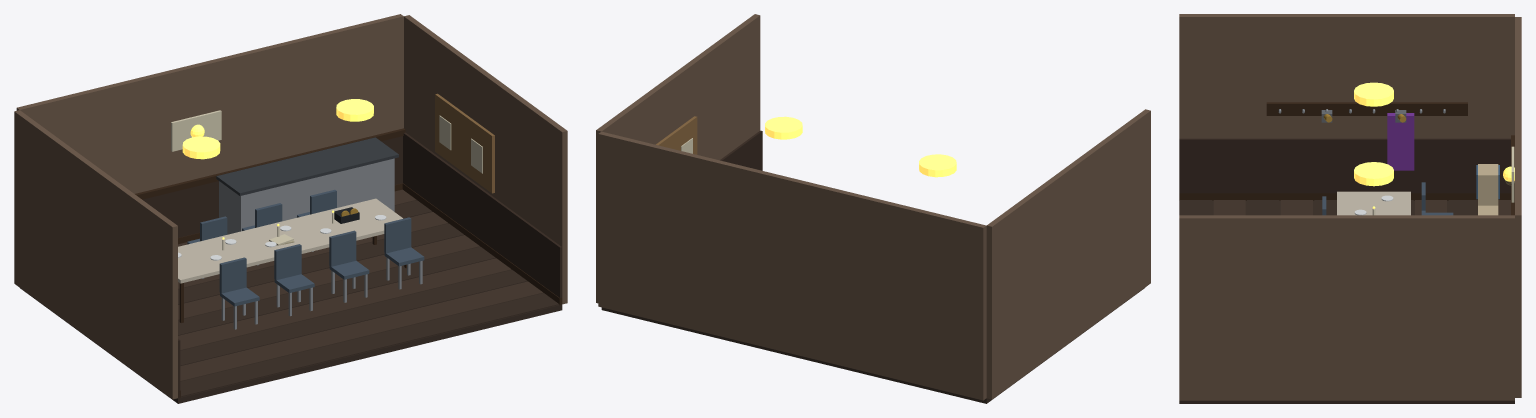
Rendered from mess.glb.
The picture shows the model from 3 angles, left to right: view 1: azimuth 30°, elevation 25°; view 2: azimuth 150°, elevation 25°; view 3: azimuth 270°, elevation 25°; orthographic projection. The views are drawn at different scales.
Parts seen in each view (by area): view 1: WallBack, WallLeft, WallRight, BandRight, DinnerTop, Plank0, Plank1, Galley, Plank2, Plank3, Plank4, GalleyTop (+21 smaller); view 2: WallBack, WallLeft, WallRight, Floor, BandRight, Notice, Lamp1, Lamp2; view 3: WallRight, WallLeft, BandLeft, WallBack, PegBoard, DinnerTop, SkirtLeft, Floor, Parka, Sack1, Lamp1, Lamp2 (+7 smaller).
Boxes of the visible parts, bbox=[...] form: WallBack: bbox=[16, 14, 403, 193]; WallLeft: bbox=[14, 110, 177, 399]; WallRight: bbox=[404, 15, 567, 304]; BandRight: bbox=[403, 132, 562, 297]; DinnerTop: bbox=[178, 198, 402, 283]; Plank0: bbox=[180, 293, 559, 396]; Plank1: bbox=[180, 281, 543, 381]; Galley: bbox=[219, 158, 394, 234]; Plank2: bbox=[180, 270, 527, 365]; Plank3: bbox=[178, 258, 511, 350]; Plank4: bbox=[178, 246, 495, 335]; GalleyTop: bbox=[216, 137, 398, 195]; WallBack: bbox=[598, 131, 986, 400]; WallLeft: bbox=[986, 109, 1150, 399]; WallRight: bbox=[596, 14, 760, 303]; Floor: bbox=[601, 288, 1144, 403]; BandRight: bbox=[720, 130, 762, 170]; Notice: bbox=[656, 116, 697, 154]; Lamp1: bbox=[919, 154, 956, 177]; Lamp2: bbox=[765, 116, 802, 139]; WallRight: bbox=[1179, 215, 1514, 400]; WallLeft: bbox=[1179, 14, 1514, 138]; BandLeft: bbox=[1179, 138, 1510, 193]; WallBack: bbox=[1515, 17, 1521, 397]; PegBoard: bbox=[1266, 102, 1467, 115]; DinnerTop: bbox=[1337, 191, 1410, 215]; SkirtLeft: bbox=[1179, 193, 1510, 200]; Floor: bbox=[1179, 200, 1514, 403]; Parka: bbox=[1387, 113, 1414, 170]; Sack1: bbox=[1478, 164, 1498, 205]; Lamp1: bbox=[1354, 82, 1393, 106]; Lamp2: bbox=[1354, 162, 1393, 186].
Bounding box in the file's own units: 7.2 × 3.1 × 5.1.
